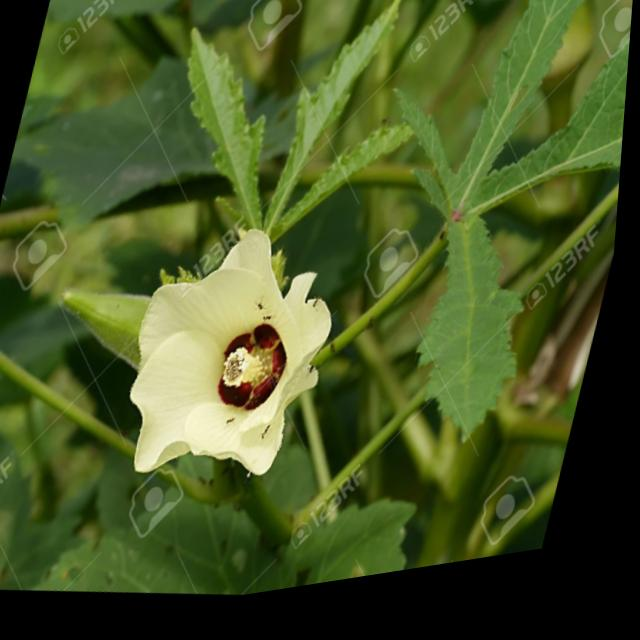Flower: (103, 209, 363, 519)
